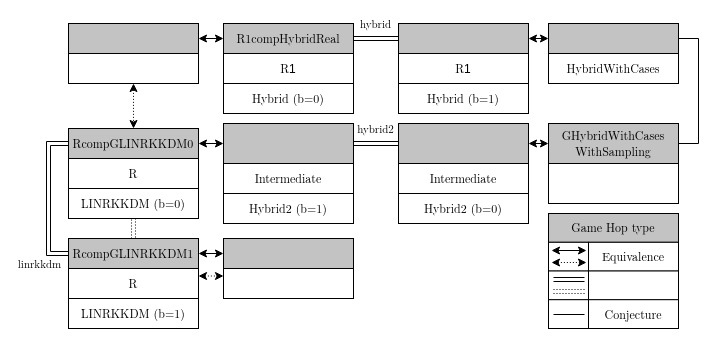
Some shapes in this 717 by 354 pixel diagram are drawn without their labels. The shapes that lost their labels are listed below. From the top down, each one's box as (x1, y1, x2, y2) in pixels, then its label:
(68, 22, 198, 54): GSimFreeXORReal
(398, 22, 528, 54): R1compHybridIdeal
(548, 22, 678, 54): GHybridWithCases
(68, 52, 198, 84): SimFreeXORReal
(222, 122, 354, 164): GIntermediatecomp Hybrid2Ideal
(398, 122, 528, 164): GIntermediatecomp Hybrid2Real
(548, 162, 678, 204): HybridWithCases WithSampling
(222, 238, 354, 268): GSimFreeXORIdeal
(222, 268, 354, 298): SimFreeXORIdeal
(588, 270, 678, 300): Reduction
